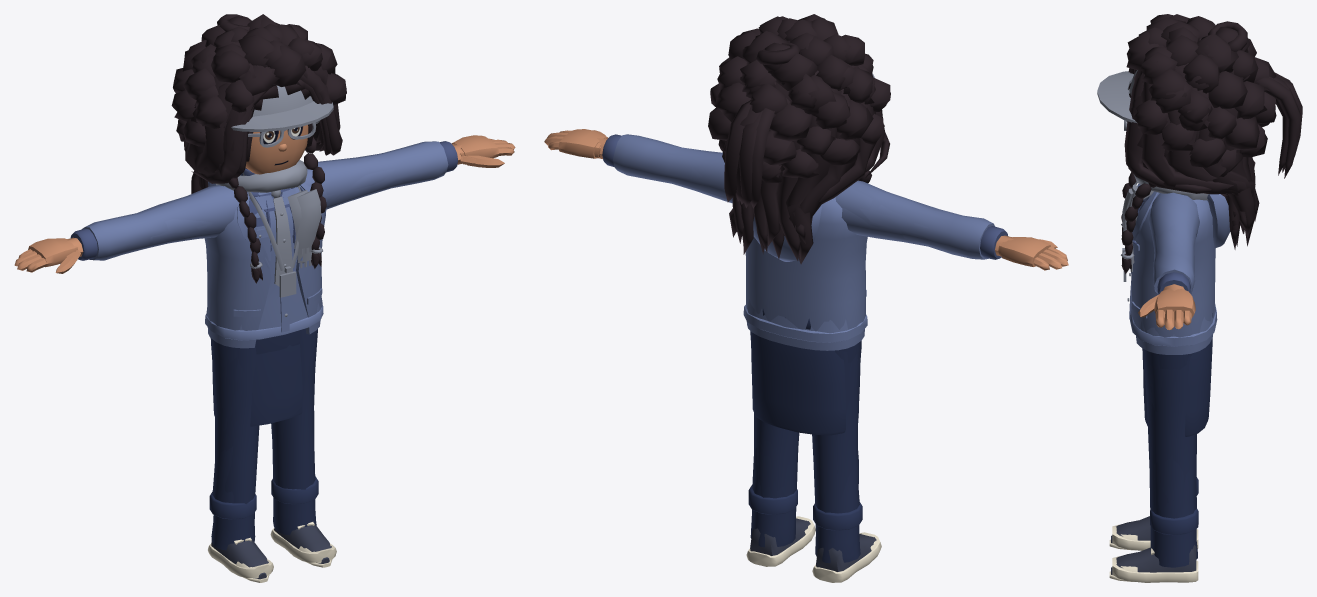
File: base_tpose.glb
3 views of the same model, side by side, from view 1: azimuth 30°, elevation 25°; view 2: azimuth 150°, elevation 25°; view 3: azimuth 270°, elevation 25° (orthographic). The views are drawn at different scales.
Visible parts, largest first — view 1: Pants_adult_m, Top_m, Top_adult_m, Hair_cacheado, Hair_cacheado_longo, Hair_ondulado, Body_m, Top_uniform, Pants_m, Pants_adult_f, Shoes, Acc_cachecol (+4 smaller); view 2: Hair_cacheado_longo, Top_adult_m, Top_m, Pants_adult_m, Hair_ondulado, Pants_adult_f, Hair_cacheado, Hair_rabo, Pants_m, Shoes, Body_m, Top_uniform (+1 smaller); view 3: Hair_cacheado_longo, Hair_ondulado, Top_adult_m, Pants_adult_m, Hair_cacheado, Top_m, Pants_m, Shoes, Pants_adult_f, Hair_rabo, Body_m, Top_uniform (+7 smaller).
Boxes of the visible parts, x1,y1,x2,y2 form: Pants_adult_m: [211, 328, 316, 550]; Top_m: [70, 141, 457, 260]; Top_adult_m: [124, 152, 395, 348]; Hair_cacheado: [180, 14, 335, 112]; Hair_cacheado_longo: [171, 17, 346, 146]; Hair_ondulado: [184, 63, 342, 193]; Body_m: [14, 125, 515, 273]; Top_uniform: [135, 152, 403, 340]; Pants_m: [209, 329, 318, 519]; Pants_adult_f: [212, 344, 302, 426]; Shoes: [208, 522, 336, 578]; Acc_cachecol: [216, 159, 321, 268]; Hair_cacheado_longo: [708, 14, 890, 182]; Top_adult_m: [667, 150, 940, 350]; Top_m: [602, 134, 1007, 261]; Pants_adult_m: [750, 309, 860, 563]; Hair_ondulado: [722, 64, 889, 264]; Pants_adult_f: [751, 332, 845, 435]; Hair_cacheado: [742, 14, 875, 114]; Hair_rabo: [724, 100, 775, 208]; Pants_m: [748, 350, 862, 530]; Shoes: [746, 516, 881, 582]; Body_m: [544, 129, 1068, 270]; Top_uniform: [643, 153, 939, 342]; Hair_cacheado_longo: [1132, 14, 1276, 176]; Hair_ondulado: [1124, 63, 1259, 246]; Top_adult_m: [1131, 183, 1215, 354]; Pants_adult_m: [1143, 313, 1212, 567]; Hair_cacheado: [1126, 14, 1253, 130]; Top_m: [1137, 193, 1230, 294]; Pants_m: [1147, 351, 1198, 535]; Shoes: [1112, 516, 1198, 582]; Pants_adult_f: [1142, 338, 1212, 436]; Hair_rabo: [1256, 72, 1302, 178]; Body_m: [1138, 284, 1195, 330]; Top_uniform: [1127, 192, 1217, 346].
Bounding box in the file's own units: 1.71 × 1.72 × 0.5925.
8 materials, 4 textured.
